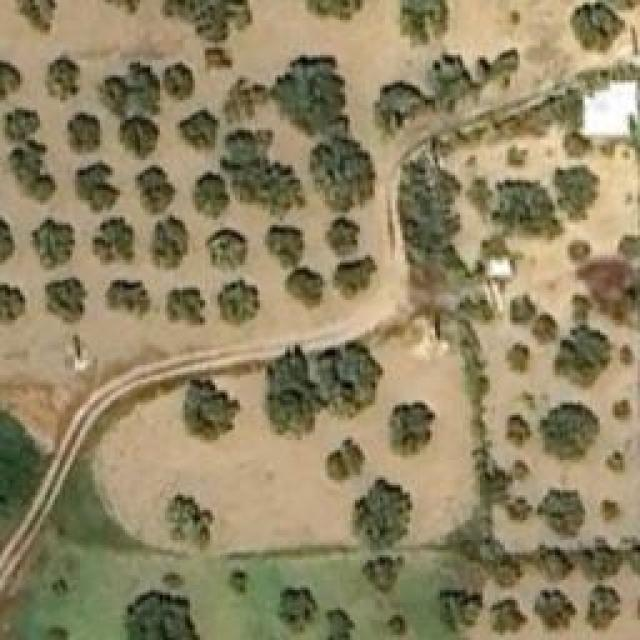Tree: (220, 128, 308, 221), (73, 160, 136, 265), (273, 55, 348, 138), (0, 108, 58, 203), (308, 137, 378, 215), (315, 340, 383, 417), (268, 345, 323, 433), (492, 178, 560, 238), (98, 64, 163, 125), (355, 480, 413, 548), (159, 0, 252, 42), (125, 590, 203, 640), (185, 380, 240, 443), (540, 402, 598, 460), (555, 328, 610, 383), (375, 80, 428, 135), (425, 55, 470, 115), (390, 400, 435, 458), (398, 0, 451, 48), (537, 488, 585, 541), (570, 3, 620, 53), (330, 253, 378, 303), (105, 278, 160, 321), (33, 218, 76, 271), (135, 165, 178, 215), (45, 277, 88, 325), (163, 497, 206, 545), (555, 168, 600, 213), (275, 588, 320, 633), (205, 228, 248, 273), (218, 280, 261, 325), (533, 590, 578, 633), (118, 115, 161, 160), (283, 265, 323, 313), (323, 438, 366, 481), (265, 225, 308, 268), (193, 170, 228, 220), (153, 218, 188, 268), (63, 113, 103, 156), (178, 110, 221, 150), (225, 78, 268, 118), (45, 55, 80, 103), (295, 0, 375, 20), (165, 288, 205, 328), (585, 585, 620, 630), (363, 555, 403, 593), (15, 0, 58, 35), (325, 215, 360, 258), (440, 590, 478, 628), (535, 548, 575, 584), (163, 60, 196, 103), (490, 598, 525, 633), (323, 605, 358, 640), (0, 283, 25, 326), (490, 553, 520, 588), (0, 60, 22, 105), (583, 548, 616, 578), (505, 343, 530, 376), (508, 415, 533, 448), (205, 48, 233, 73), (508, 297, 533, 325), (533, 315, 558, 343), (503, 498, 530, 522), (597, 498, 618, 526), (605, 453, 627, 479), (385, 610, 407, 636), (613, 397, 633, 425), (510, 458, 531, 484), (228, 570, 248, 595), (568, 240, 588, 263)
